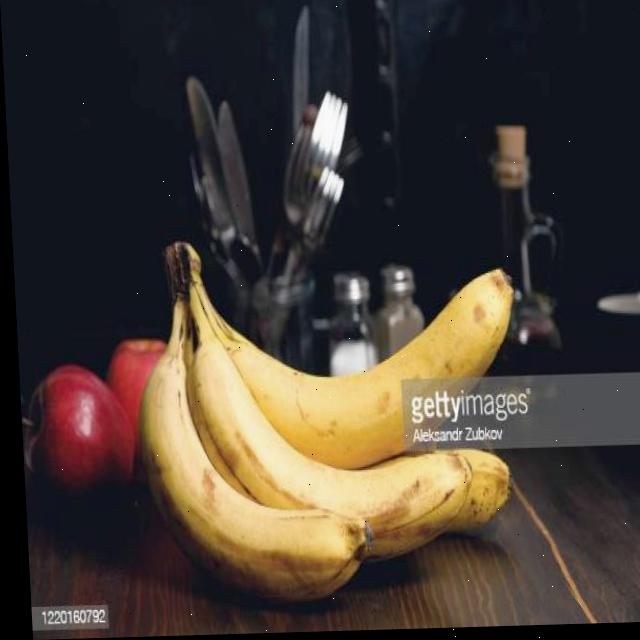banana: (125, 222, 534, 617)
